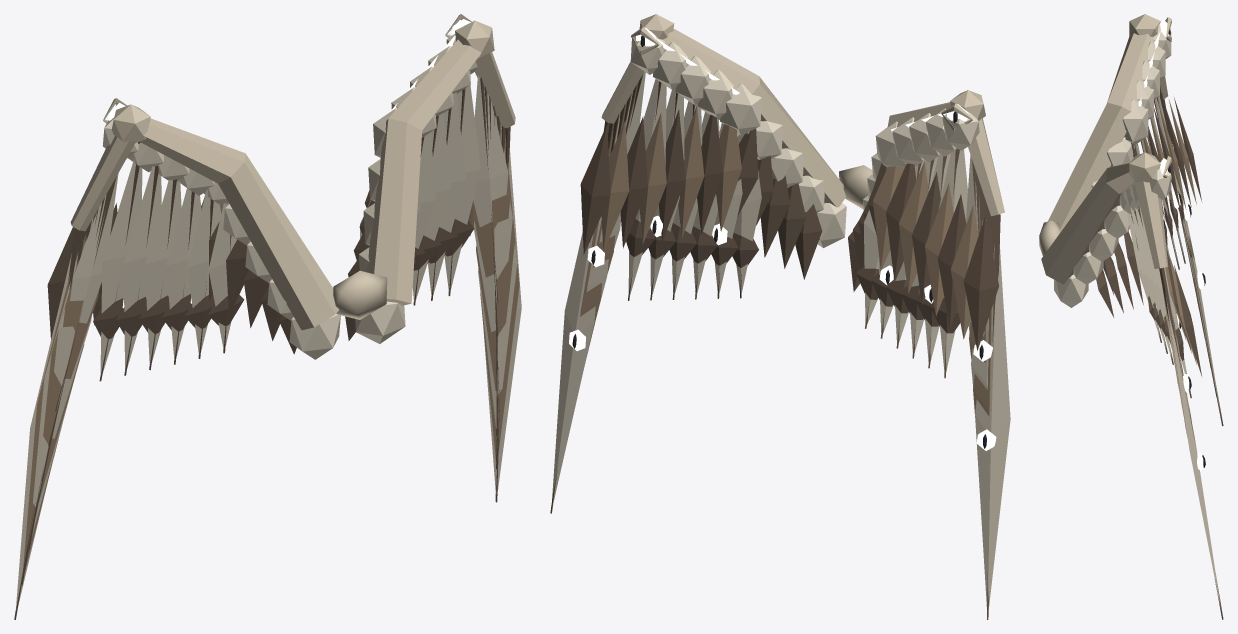
Rendered from wings-3.glb.
3 views of the same model, side by side, from view 1: azimuth 30°, elevation 25°; view 2: azimuth 150°, elevation 25°; view 3: azimuth 270°, elevation 25° (orthographic). The views are drawn at different scales.
Parts seen in each view (by area): view 1: wing_r, wing_l, root; view 2: wing_l, wing_r, pulse_ocelli_l, root, pulse_ocelli_r; view 3: wing_l, wing_r, root, pulse_ocelli_r, pulse_ocelli_l.
Part boxes in pixels (left/top/right/bottom): wing_r: left=14, top=104, right=340, bottom=619; wing_l: left=345, top=20, right=521, bottom=502; root: left=333, top=270, right=387, bottom=319; wing_l: left=550, top=14, right=846, bottom=513; wing_r: left=848, top=90, right=1010, bottom=619; pulse_ocelli_l: left=569, top=215, right=727, bottom=350; root: left=839, top=165, right=872, bottom=209; pulse_ocelli_r: left=879, top=265, right=996, bottom=450; wing_l: left=1041, top=152, right=1223, bottom=619; wing_r: left=1048, top=14, right=1223, bottom=426; root: left=1039, top=220, right=1060, bottom=255; pulse_ocelli_r: left=1163, top=191, right=1205, bottom=289; pulse_ocelli_l: left=1156, top=306, right=1205, bottom=470.
Size of the model in its own units: 1.14 by 1.19 by 0.4498.
